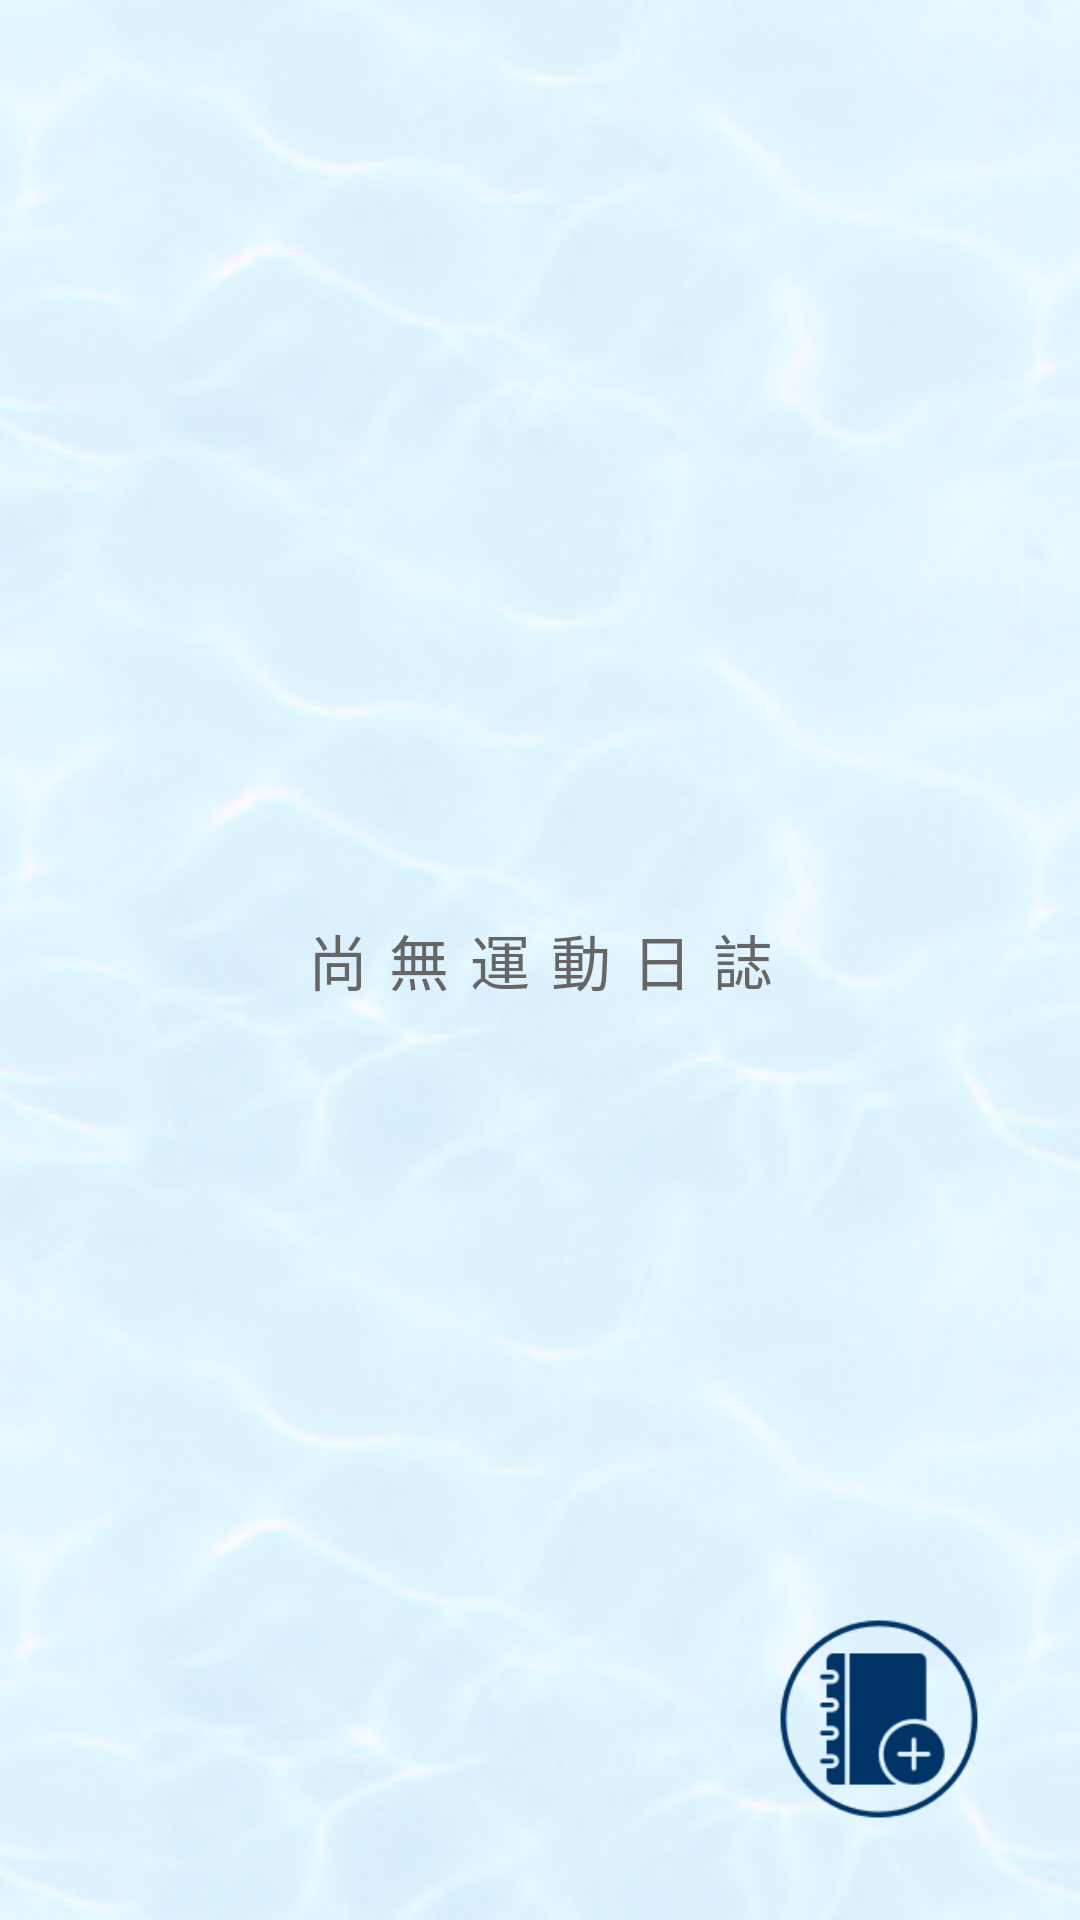

Point at icon controls on the screen. Image size 1080 × 1920, points as (x,y).
notebook: (879,1719)
